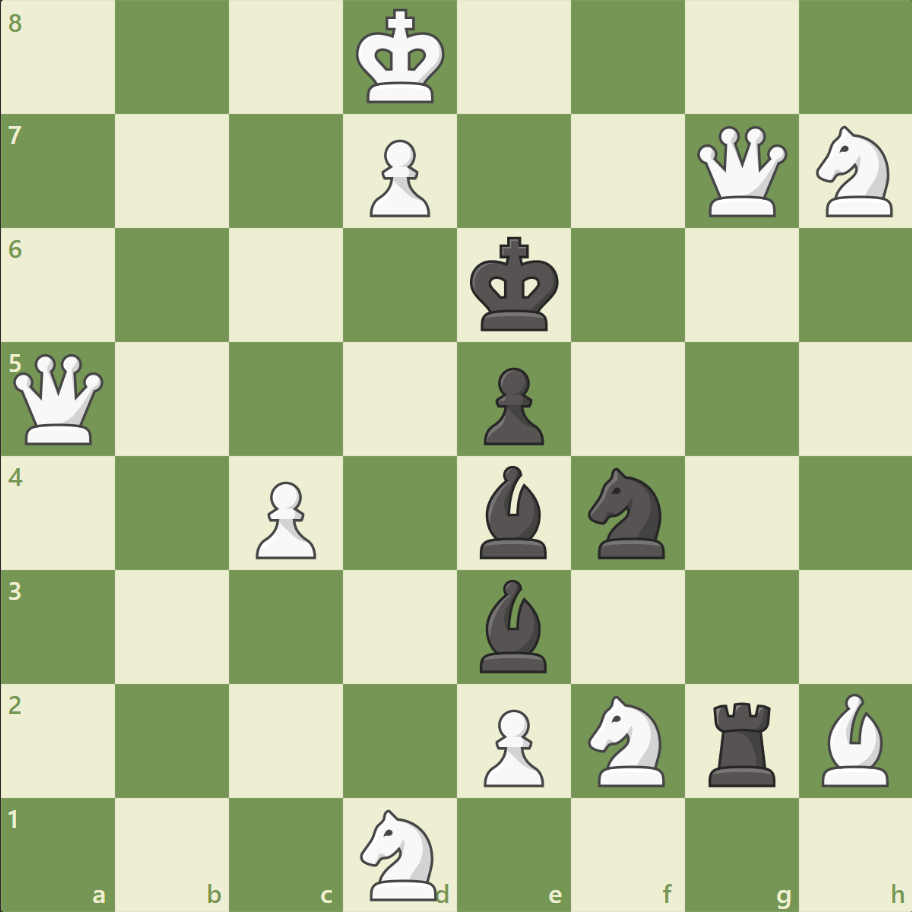B: (812, 687, 896, 790)
K: (351, 4, 451, 112)
N: (351, 802, 449, 904), (579, 688, 676, 791), (806, 121, 903, 223)
P: (247, 473, 322, 564), (474, 700, 549, 791), (361, 132, 435, 223)
Q: (691, 122, 790, 222), (10, 349, 109, 449)
b: (471, 460, 555, 563), (471, 574, 555, 676)
k: (465, 231, 565, 339)
n: (579, 461, 676, 564)
p: (474, 359, 549, 450)
r: (700, 693, 783, 790)
